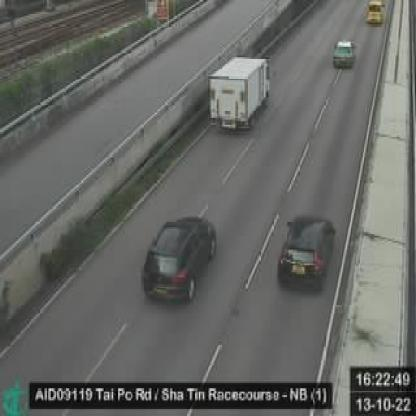Car: (141, 216, 216, 310), (276, 216, 336, 289), (332, 38, 355, 67), (368, 0, 384, 24)
Truck: (209, 53, 270, 134)
